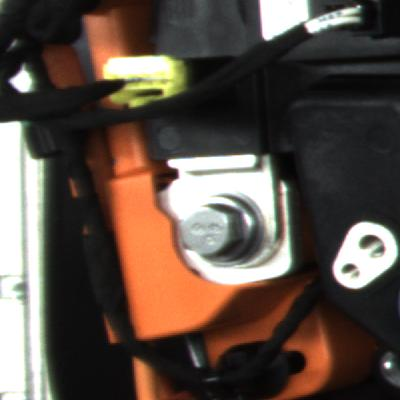nut_b: (179, 182, 282, 280)
